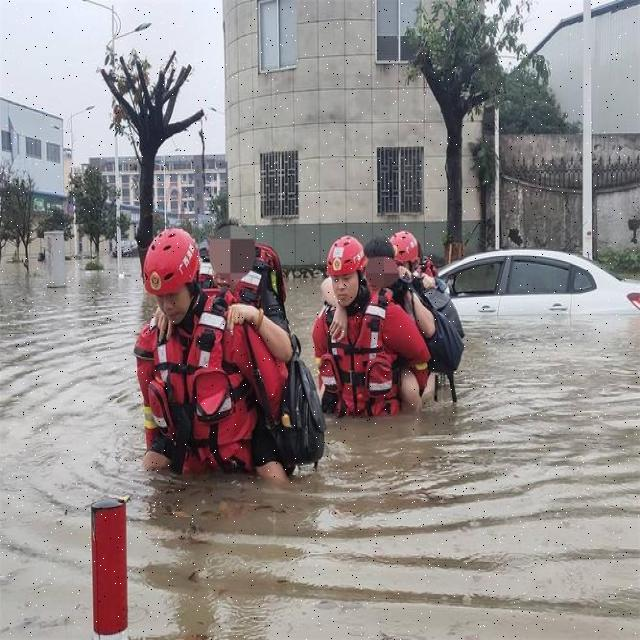rescuer: (132, 226, 225, 486), (311, 233, 388, 425)
